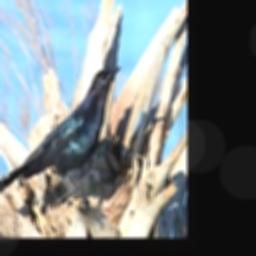Crow: (0, 66, 122, 215)
